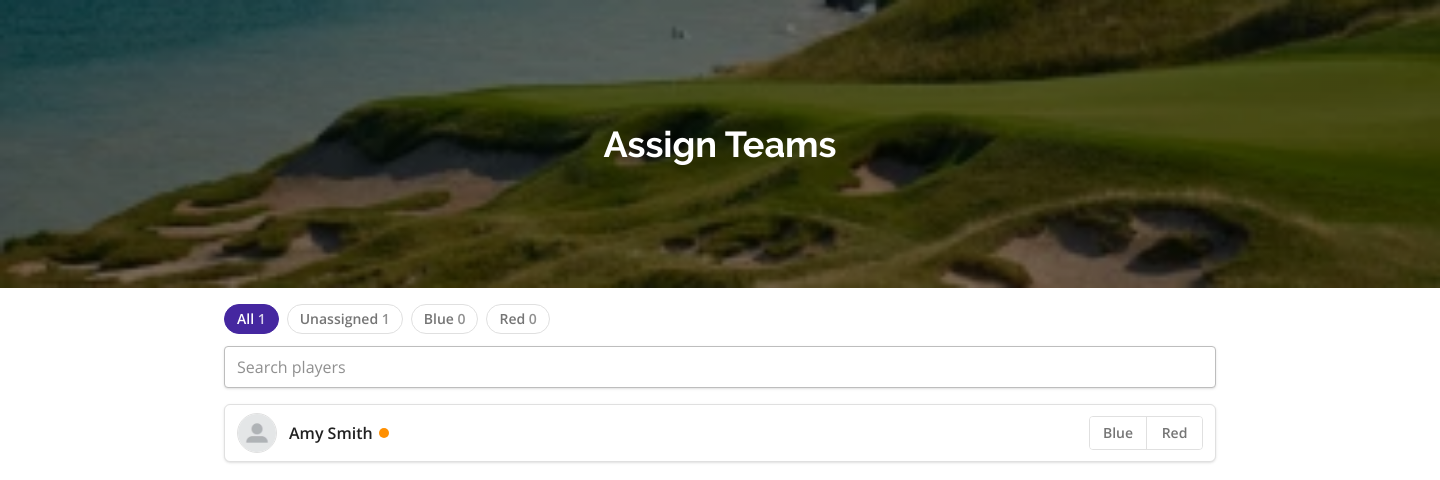
Test: AdminTeamsView › moves the row onto the team before the server has been re-read
Step 1. Click the button "Blue" → (1118, 433), box [1090,417,1146,449]
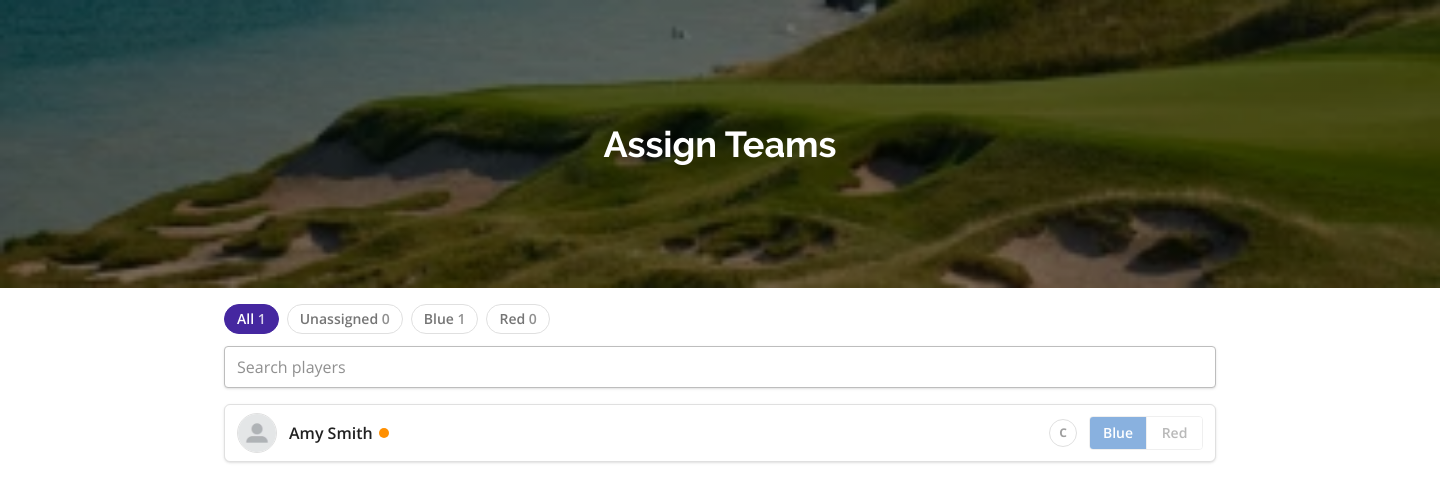
Now the button "Blue 1" is shown, box [411,304,478,334]
Now the button "Unassigned 0" is shown, box [287,304,403,334]
